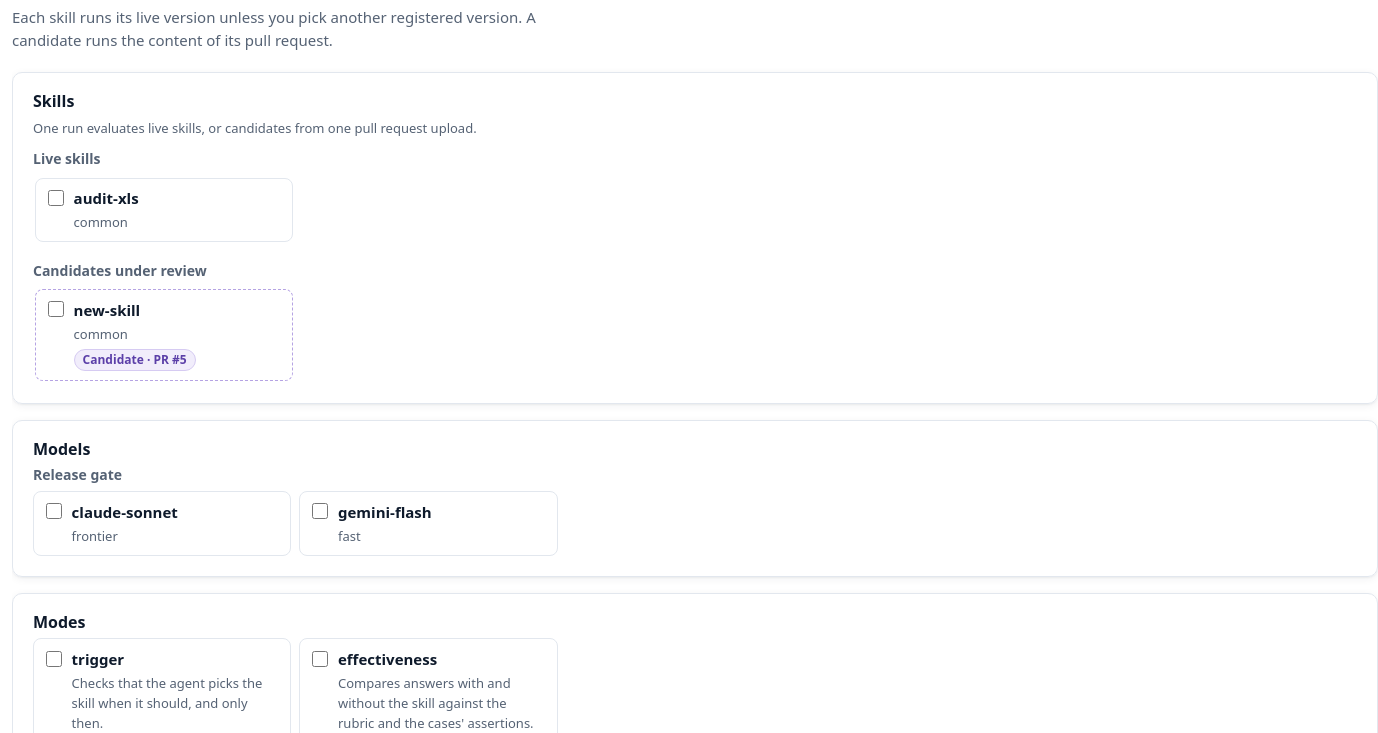
Test: RunEval with candidates › runs a picked candidate on its own, without live skills or versions
Click the checkbox named "common/new-skill" at x=56, y=309, box x1=48 y1=301 x2=64 y2=317
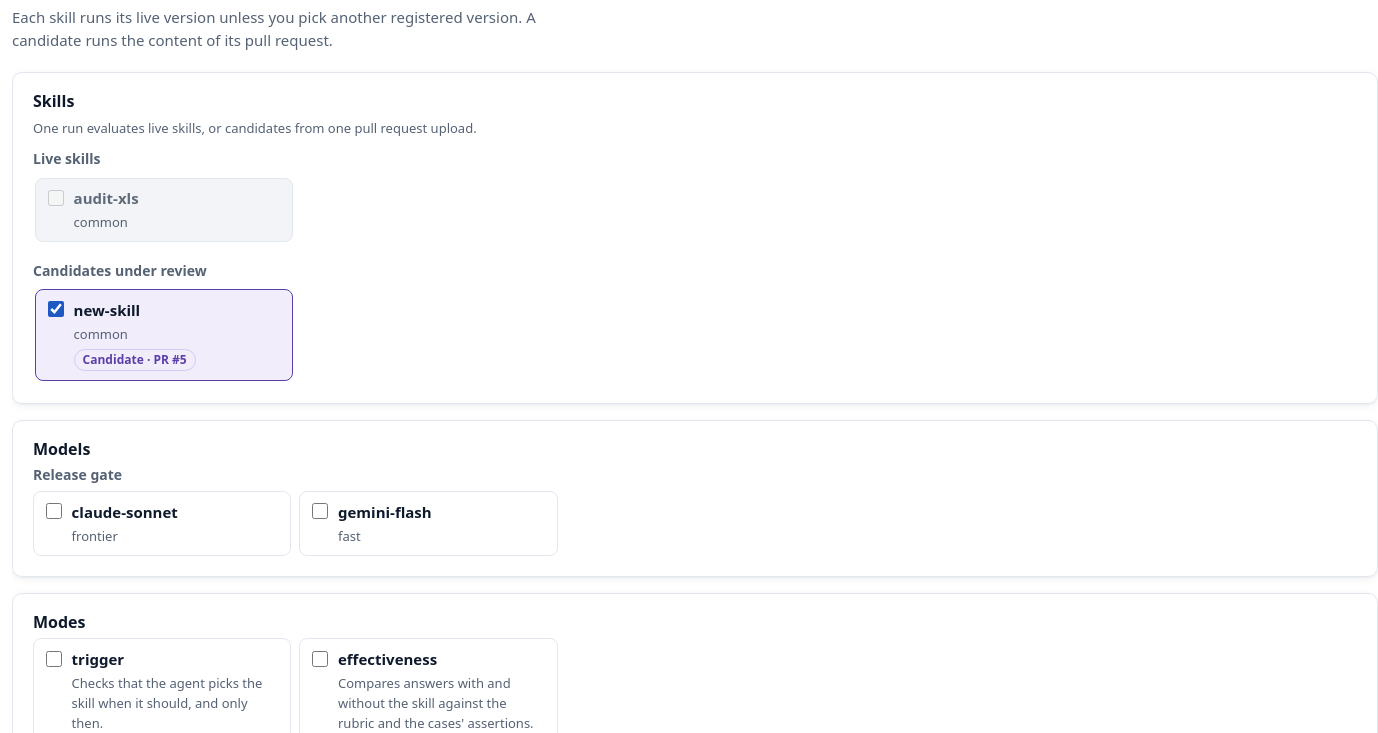
Check: the checkbox named "common/audit-xls" is disabled, box x1=48 y1=190 x2=64 y2=206
Click the checkbox labelled "claude-sonnet frontier" at x=54, y=511, box x1=46 y1=503 x2=62 y2=519
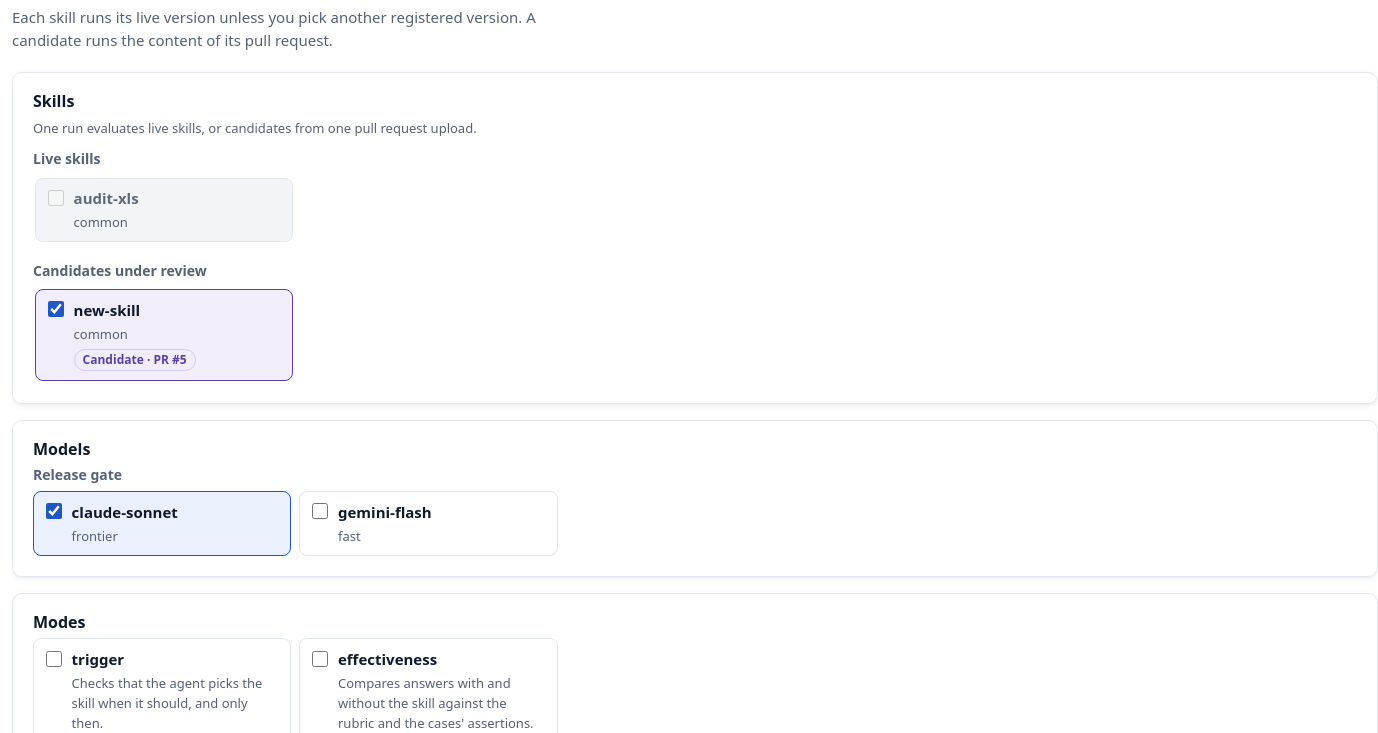
Click the checkbox labelled "trigger" at x=54, y=659, box x1=46 y1=651 x2=62 y2=667
(page scrolled)
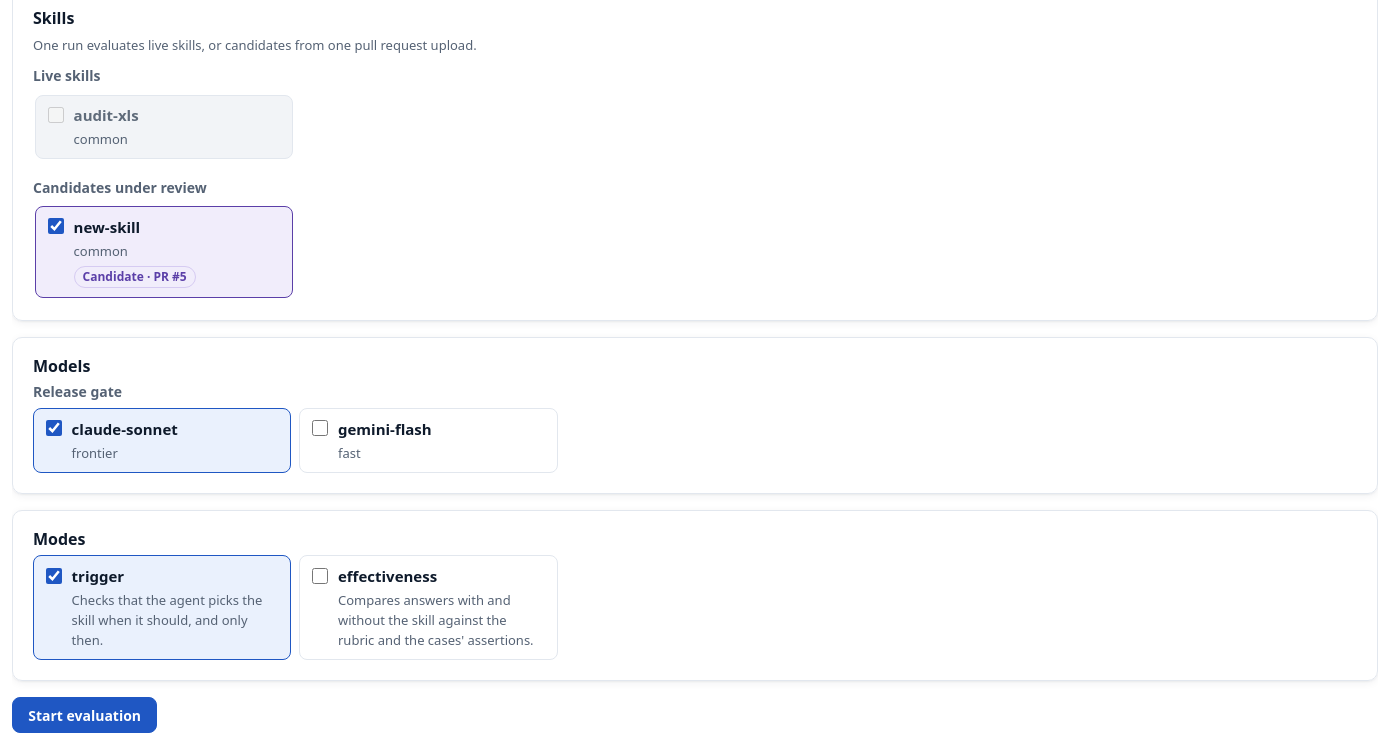
Click the button "Start evaluation" at x=85, y=715, box x1=12 y1=697 x2=157 y2=732
(page scrolled)
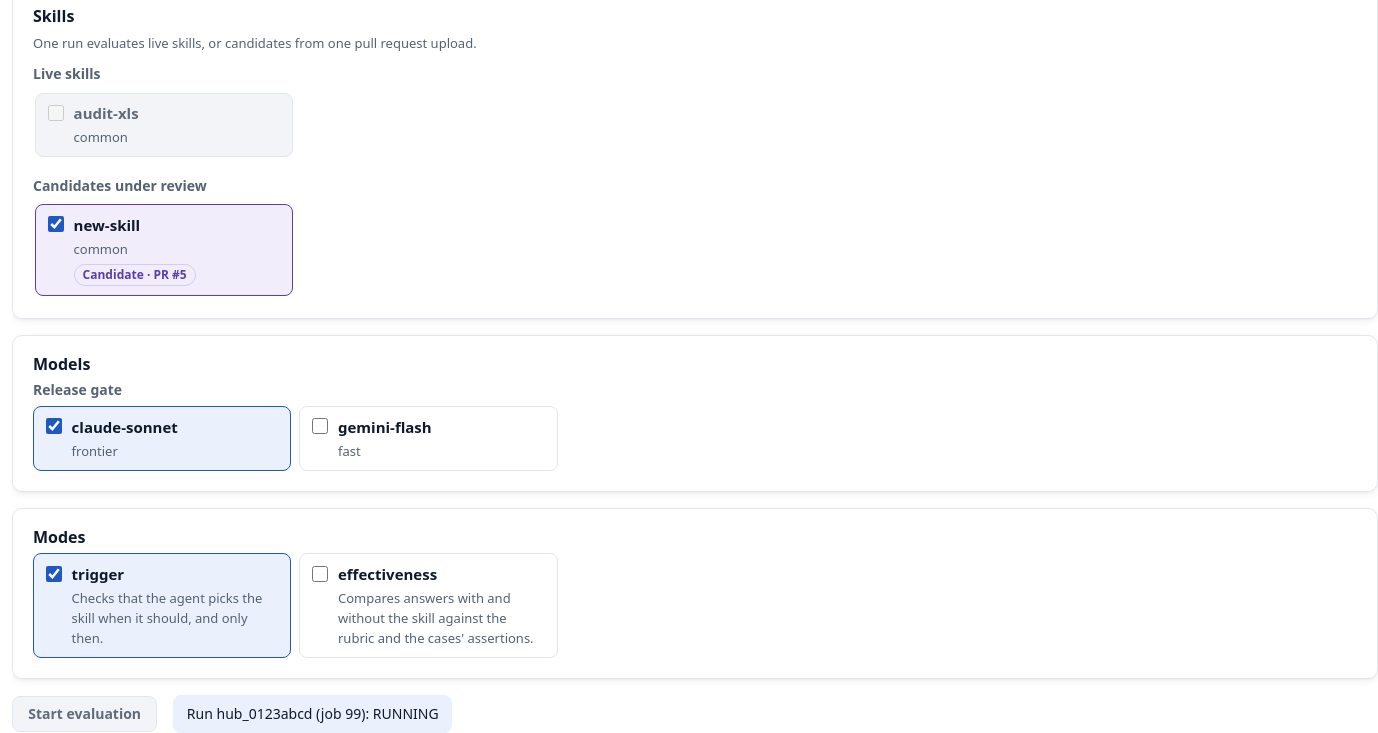
Check: the text "Run hub_0123abcd (job 99): RUNNING" is shown, box x1=173 y1=695 x2=452 y2=732
